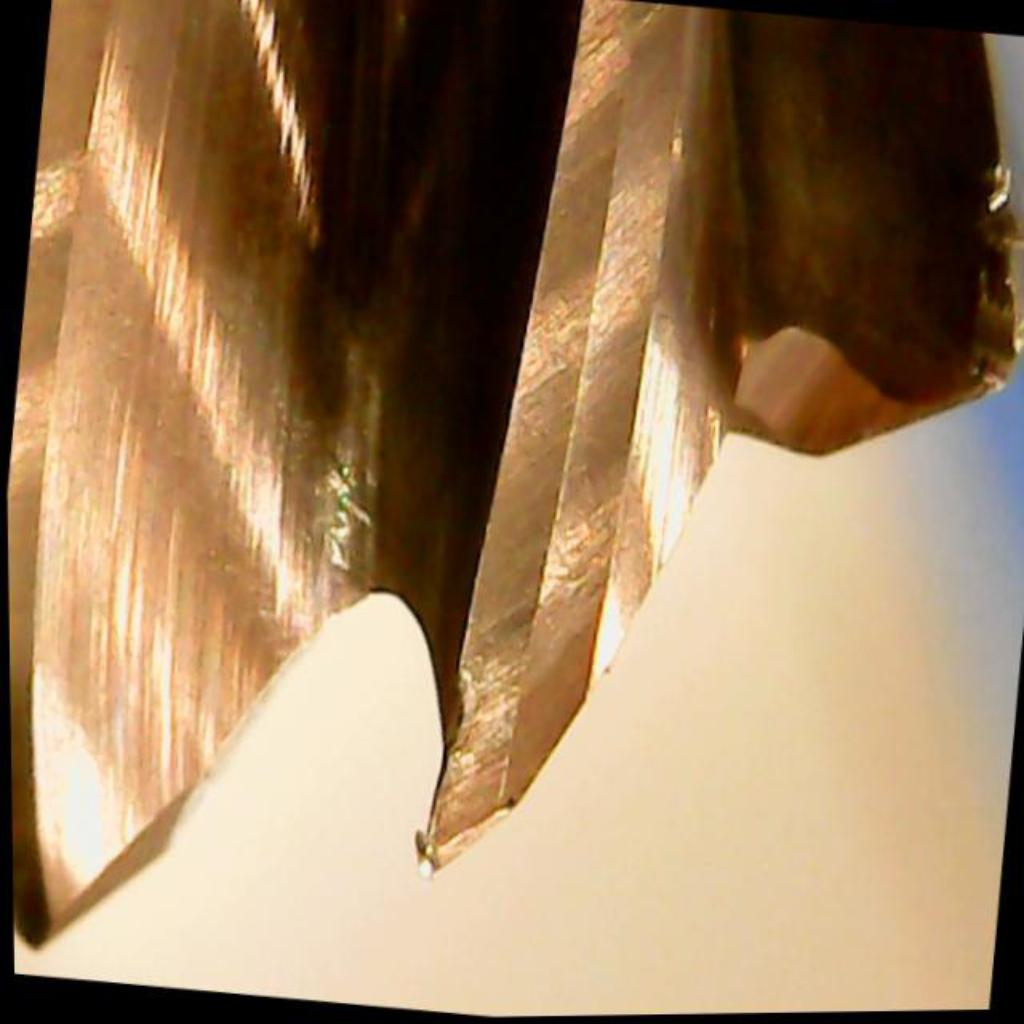Tool-wear-class-1: (384, 507, 622, 892)
